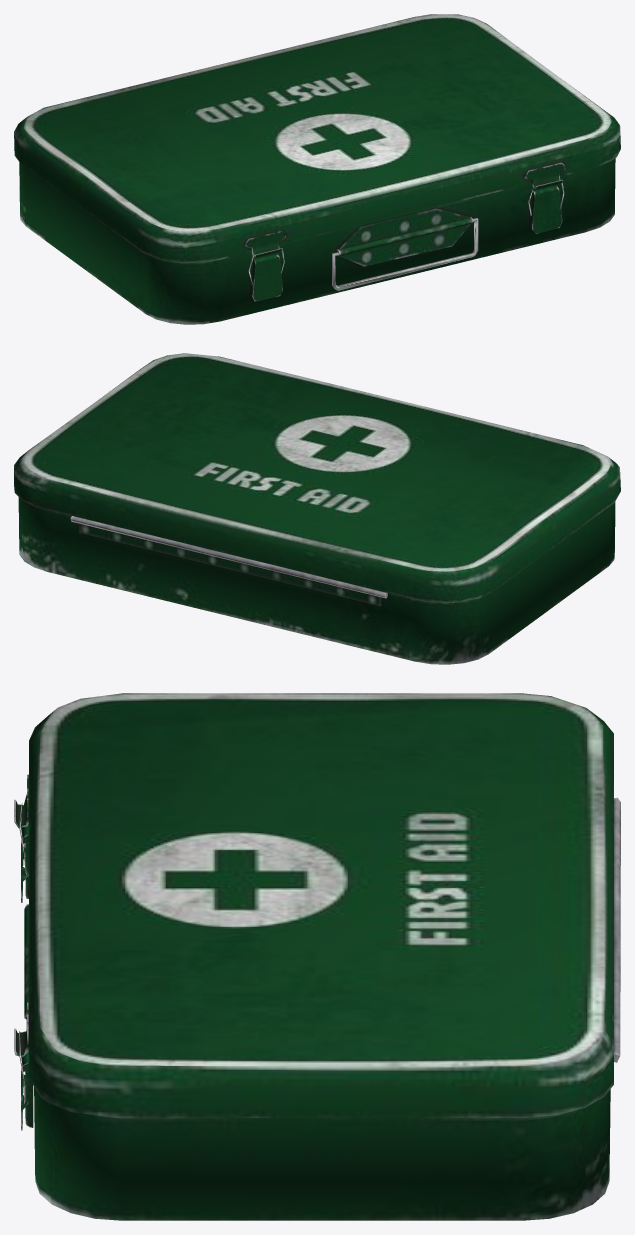
Rendered from erste_hilfe.glb.
3 renders of one model, top to bottom at view 1: azimuth 30°, elevation 25°; view 2: azimuth 150°, elevation 25°; view 3: azimuth 270°, elevation 25°, orthographic. The views are drawn at different scales.
Parts seen in each view (by area): view 1: medical_box_latch; view 2: medical_box_latch; view 3: medical_box_latch.
Boxes of the visible parts, left/top/right/bottom form: medical_box_latch: left=14, top=14, right=620, bottom=324; medical_box_latch: left=14, top=353, right=620, bottom=664; medical_box_latch: left=14, top=693, right=620, bottom=1220.
Bounding box in the file's own units: 0.5255 × 0.0967 × 0.3501.
1 material, 1 textured.
